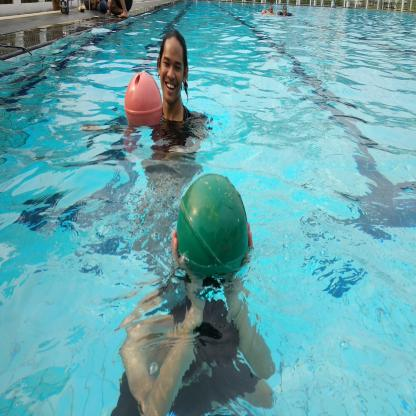green_buoy: (171, 165, 256, 296)
red_buoy: (120, 66, 170, 134)
